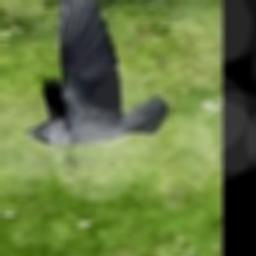Crow: (24, 0, 169, 148)
